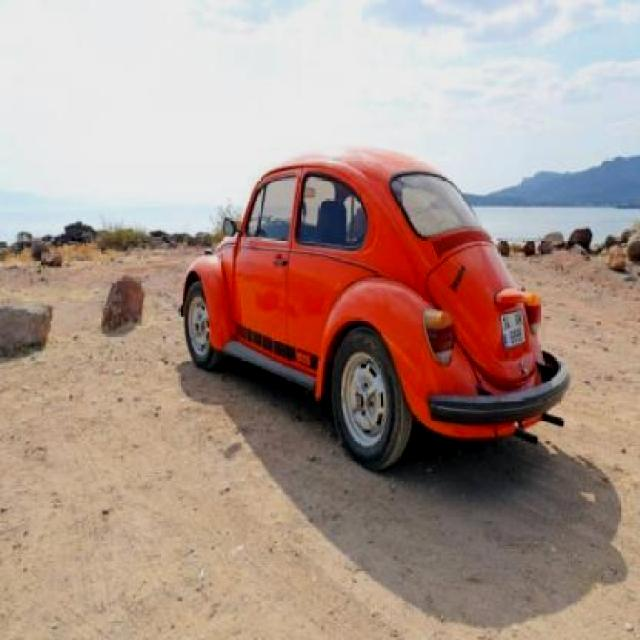car: (173, 152, 572, 463)
